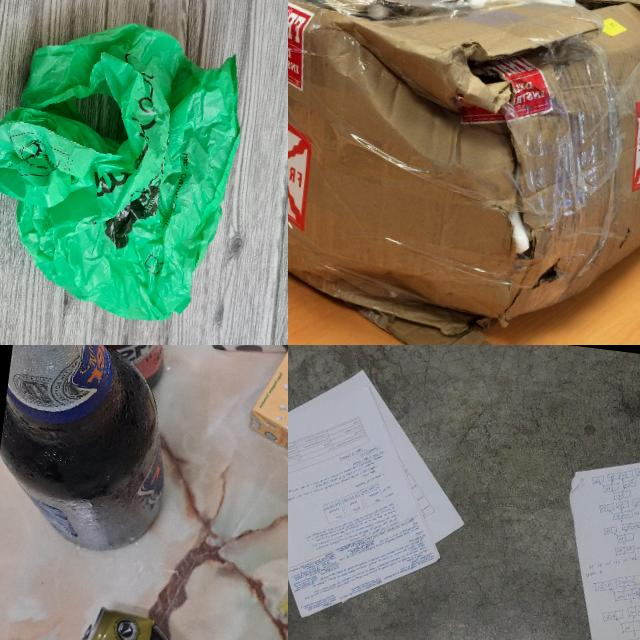caixinha: (237, 345, 288, 535)
garrafa de vidro: (0, 345, 188, 554)
lata: (56, 601, 281, 640)
papel: (288, 348, 479, 640), (549, 436, 640, 640)
papelão: (288, 0, 640, 345)
sacola plástica: (0, 4, 255, 332)
